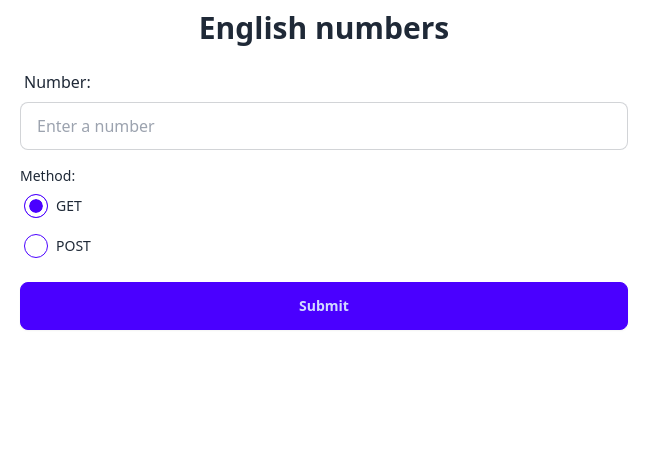
Test: EnglishNumbersPage › should get number 1 in english
Type "1" into the number field labelled "Number:" at point(324, 126), box [20,102,628,150]
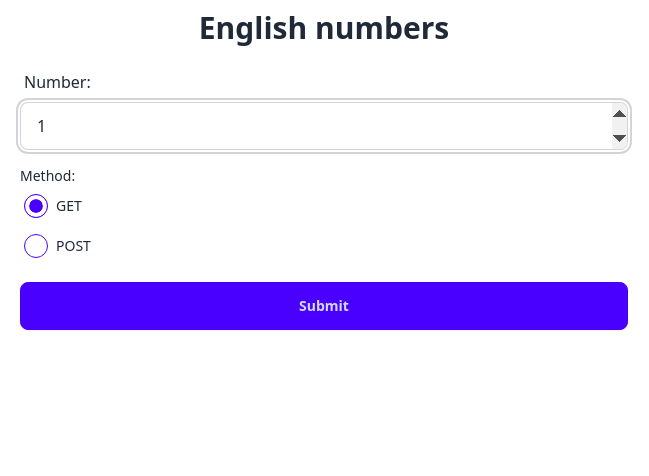
Click the radio button labelled "GET" at point(36, 206), box [24,194,48,218]
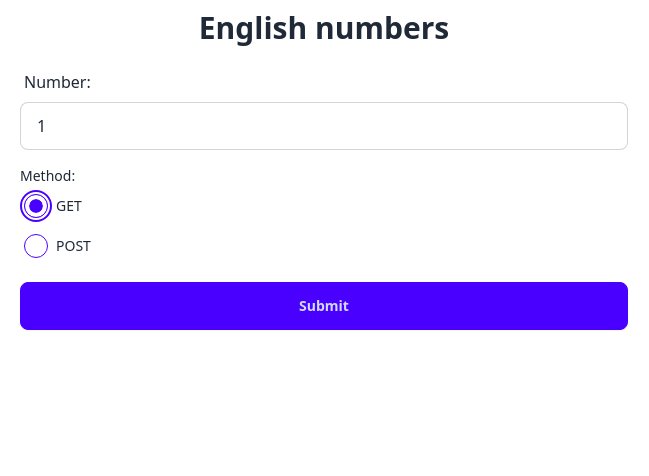
Click the button "Submit" at point(324, 306), box [20,282,628,330]
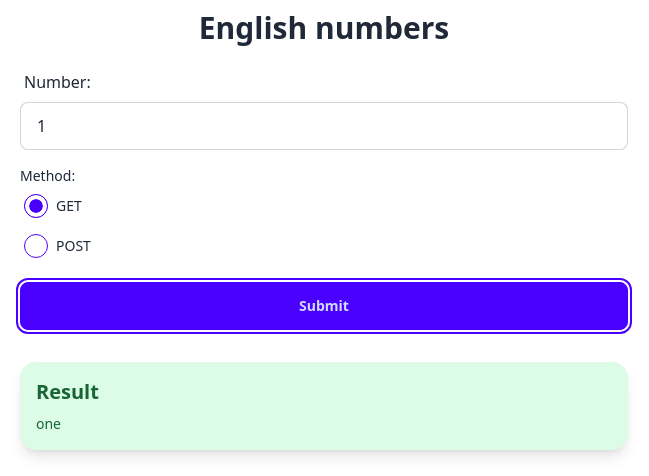
Expected: the text "one" is shown, [36,414,61,433]
